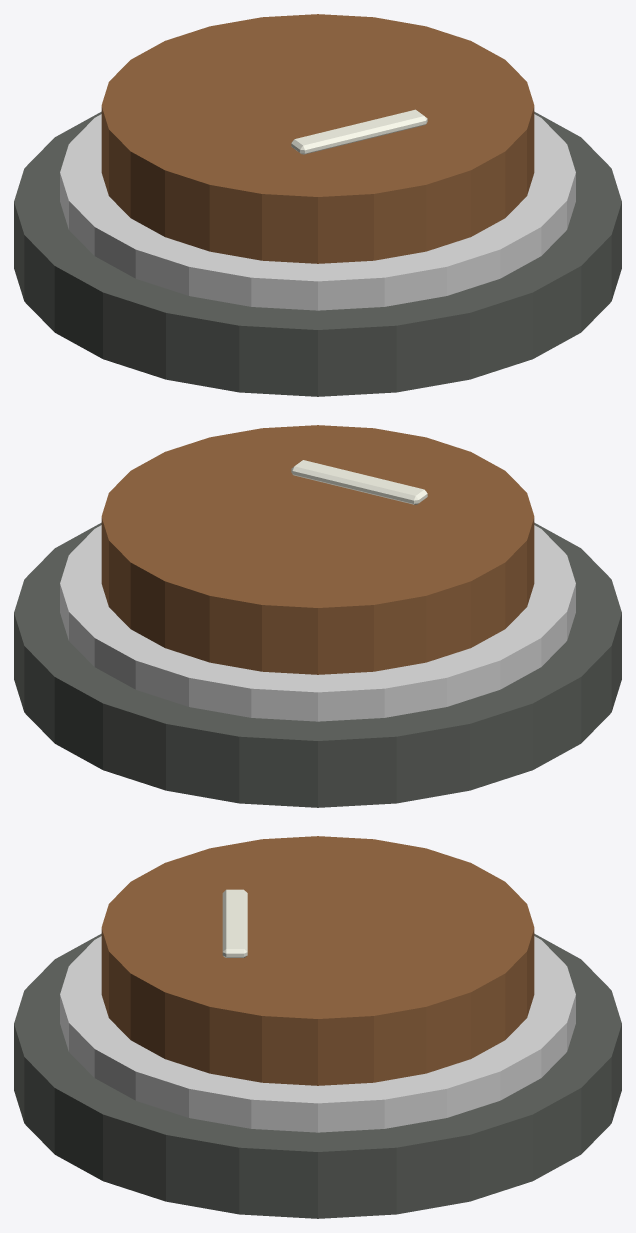
File: terrain-button-39.glb
3 renders of one model, top to bottom at view 1: azimuth 30°, elevation 25°; view 2: azimuth 150°, elevation 25°; view 3: azimuth 270°, elevation 25°, orthographic.
Parts seen in each view (by area): view 1: terrain-button-39; view 2: terrain-button-39; view 3: terrain-button-39.
Part boxes in pixels (x1,y1,x2,y2): terrain-button-39: (14, 14, 621, 396); terrain-button-39: (14, 425, 621, 807); terrain-button-39: (14, 836, 621, 1218).
Size of the model in its own units: 0.66 by 0.205 by 0.66.
